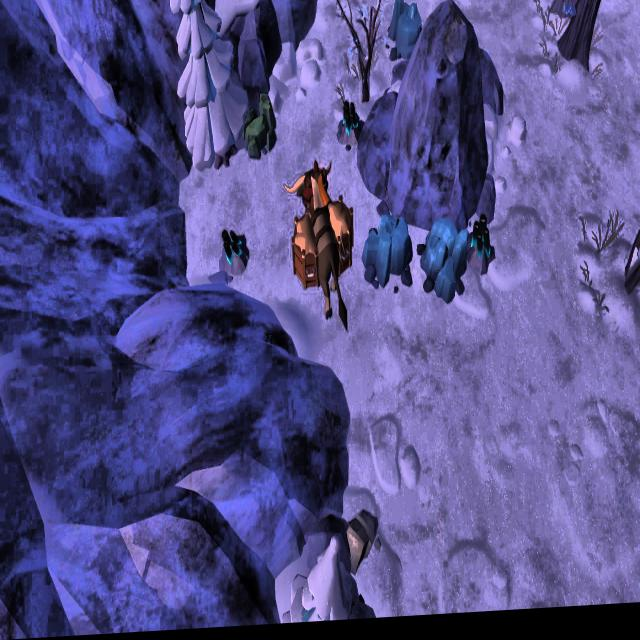ore_t4: (470, 216, 491, 270), (222, 225, 244, 269), (340, 103, 361, 135)
rock_t3: (239, 92, 281, 169)
rock_t4: (360, 213, 416, 295), (421, 221, 469, 308), (386, 0, 425, 76)
